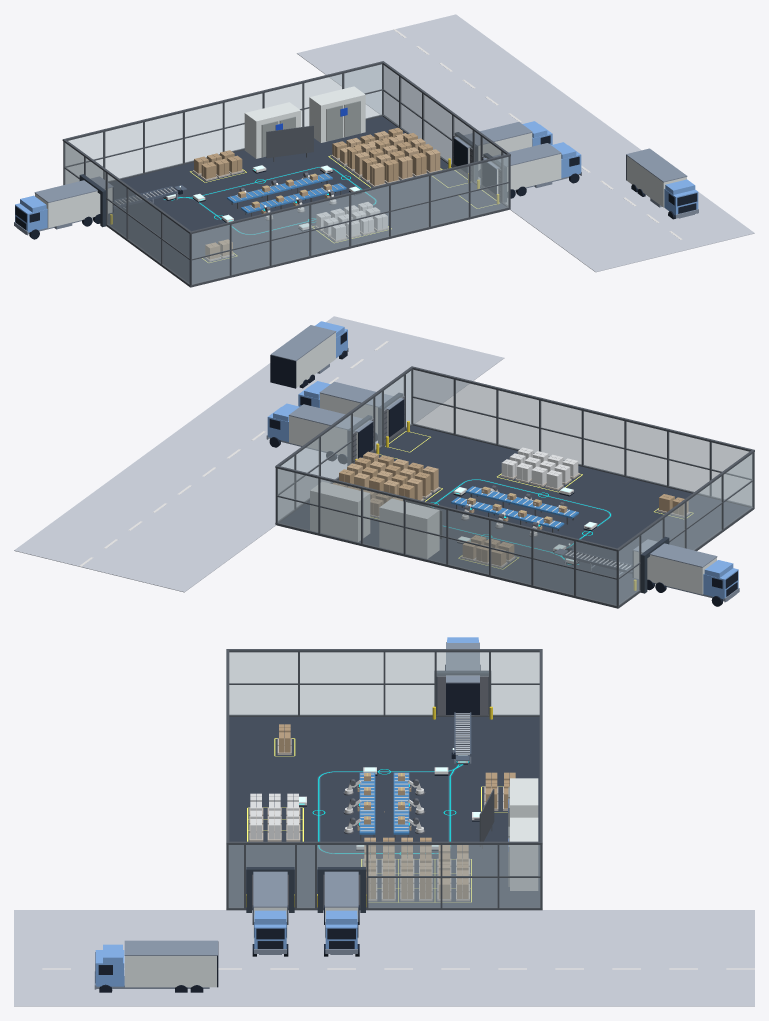
The model's file is smart_warehouse.glb.
The picture shows the model from 3 angles, top to bottom: view 1: azimuth 30°, elevation 25°; view 2: azimuth 150°, elevation 25°; view 3: azimuth 270°, elevation 25°; orthographic projection. The views are drawn at different scales.
Parts seen in each view (by area): view 1: Truck_Road_East, Warehouse_Floor, Glass_Wall_South, Glass_Wall_North, Glass_Wall_West_S1, Truck_Stationary_Dock1, Truck_Stationary_Dock3, Truck_Moving_Road, Glass_Wall_East_S3, Truck_Stationary_Dock2, Cold_Room_2_Frame, Cold_Room_1_Frame (+14 smaller); view 2: Truck_Road_East, Warehouse_Floor, Glass_Wall_North, Glass_Wall_South, Truck_Stationary_Dock1, Glass_Wall_West_S1, Truck_Stationary_Dock2, Truck_Moving_Road, Glass_Wall_East_S3, Cold_Room_1_Frame, Cold_Room_2_Frame, Truck_Stationary_Dock3 (+13 smaller); view 3: Truck_Road_East, Warehouse_Floor, Glass_Wall_West_S1, Glass_Wall_East_S3, Truck_Moving_Road, Glass_Wall_West_S3, Truck_Stationary_Dock3, Truck_Stationary_Dock2, Truck_Stationary_Dock1, Cold_Room_2_Frame, Glass_Wall_West_AboveDock1, Mullion_Top_East (+16 smaller).
Part boxes in pixels (x1,y1,x2,y2): Truck_Road_East: (297, 14, 754, 272); Warehouse_Floor: (108, 116, 506, 283); Glass_Wall_South: (192, 157, 508, 284); Glass_Wall_North: (65, 64, 381, 183); Glass_Wall_West_S1: (107, 174, 189, 283); Truck_Stationary_Dock1: (14, 176, 113, 239); Truck_Stationary_Dock3: (482, 142, 581, 198); Truck_Moving_Road: (626, 148, 698, 219); Glass_Wall_East_S3: (383, 65, 451, 164); Truck_Stationary_Dock2: (453, 121, 552, 177); Cold_Room_2_Frame: (309, 86, 365, 142); Cold_Room_1_Frame: (244, 102, 300, 158); Truck_Road_East: (14, 316, 504, 592); Warehouse_Floor: (280, 425, 749, 604); Glass_Wall_North: (277, 469, 616, 605); Glass_Wall_South: (413, 370, 751, 505); Truck_Stationary_Dock1: (632, 539, 739, 606); Glass_Wall_West_S1: (664, 454, 752, 549); Truck_Stationary_Dock2: (266, 403, 373, 464); Truck_Moving_Road: (270, 321, 348, 388); Glass_Wall_East_S3: (278, 415, 351, 520); Cold_Room_1_Frame: (379, 498, 439, 558); Cold_Room_2_Frame: (310, 481, 370, 541); Truck_Stationary_Dock3: (298, 381, 404, 441); Truck_Road_East: (14, 910, 754, 1006); Warehouse_Floor: (229, 717, 539, 907); Glass_Wall_West_S1: (229, 652, 434, 714); Glass_Wall_East_S3: (368, 845, 540, 907); Truck_Moving_Road: (94, 940, 218, 992); Glass_Wall_West_S3: (491, 652, 539, 714); Truck_Stationary_Dock3: (252, 871, 288, 956); Truck_Stationary_Dock2: (324, 871, 359, 956); Truck_Stationary_Dock1: (445, 637, 480, 715); Cold_Room_2_Frame: (510, 817, 538, 890); Glass_Wall_West_AboveDock1: (436, 652, 488, 676); Mullion_Top_East: (226, 841, 542, 844).
Size of what is drawn, in the model's own units: 55.57 by 5.58 by 52.
